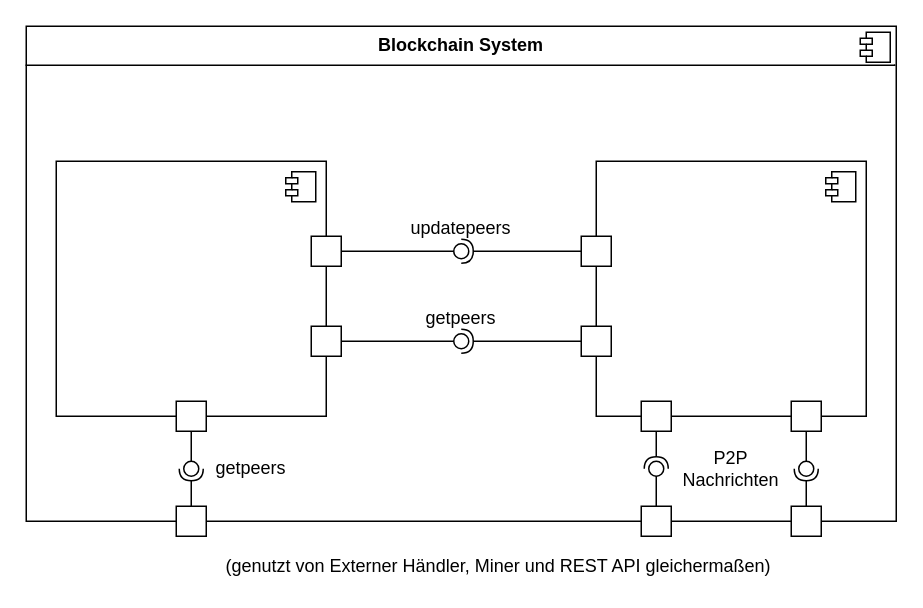
This 923x608 diagram has some shape labels left out. Each missing label, with the box of its shape:
P2P Netzwerk: (595, 160, 866, 416)
Registry: (55, 160, 326, 416)
